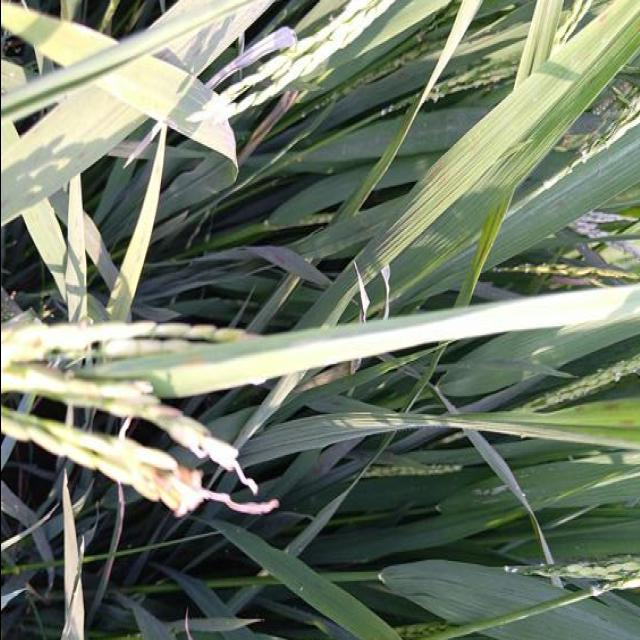Panicle Blight: (130, 464, 209, 519), (146, 402, 180, 419)
